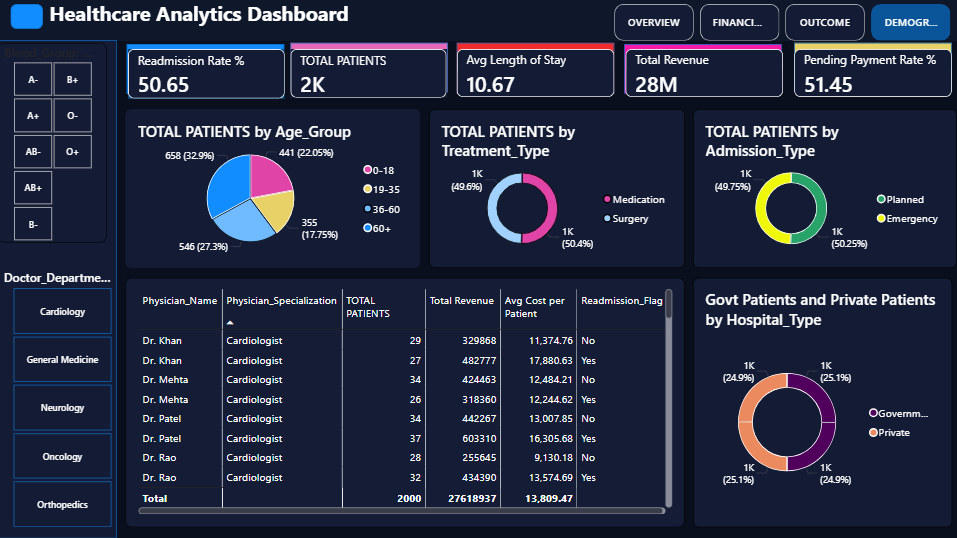

Layout of this report page (visuals, bound fields, positions):
{"tool":"powerbi","page":{"name":"DEMOGRAPHS","canvas":[1280,720],"ordinal":3},"visuals":[{"type":"shape","box":[0,0,1280,56],"z":0},{"type":"textbox","box":[16,0,1248,56],"z":1000},{"type":"shape","box":[171.1,60,210,66.7],"z":2000},{"type":"cardVisual","fields":{"Data":["HealthcareData.Readmission Rate %"]},"box":[173.1,66.4,209.2,66.4],"z":3000},{"type":"shape","box":[390,58,210,66],"z":4000},{"type":"shape","box":[0,55.7,158.6,664.3],"z":5000},{"type":"slicer","fields":{"Values":["HealthcareData.Blood_Group"]},"box":[0,59.1,144.8,266.6],"z":6000},{"type":"slicer","fields":{"Values":["HealthcareData.Doctor_Department"]},"box":[0,360,170,346],"z":7000},{"type":"shape","box":[612,58,210,68],"z":8000},{"type":"cardVisual","fields":{"Data":["HealthcareData.Avg Length of Stay"]},"box":[612,66,210,64],"z":9000},{"type":"shape","box":[835,60,210,66],"z":10000},{"type":"shape","box":[1061.4,59,210,65.7],"z":11000},{"type":"cardVisual","fields":{"Data":["HealthcareData.Total Revenue"]},"box":[836,66,210,64],"z":12000},{"type":"cardVisual","fields":{"Data":["HealthcareData.Pending Payment Rate %"]},"box":[1062,66,210,64],"z":13000},{"type":"cardVisual","fields":{"Data":["HealthcareData.TOTAL PATIENTS"]},"box":[390,66,208.8,65],"z":14000},{"type":"shape","box":[16.7,6.7,43.3,33.3],"z":15000},{"type":"textbox","box":[685.3,23.1,49.1,31.7],"z":16000},{"type":"pieChart","fields":{"Category":["HealthcareData.Age_Group"],"Y":["HealthcareData.TOTAL PATIENTS"]},"box":[169.5,147.3,392.8,212.2],"z":25000},{"type":"donutChart","fields":{"Category":["HealthcareData.Treatment_Type"],"Y":["HealthcareData.TOTAL PATIENTS"]},"box":[574.9,147.3,340.5,212.2],"z":26000},{"type":"donutChart","fields":{"Category":["HealthcareData.Admission_Type"],"Y":["HealthcareData.TOTAL PATIENTS"]},"box":[926.5,147.3,353.2,212.2],"z":27000},{"type":"tableEx","fields":{"Values":["HealthcareData.Physician_Name","HealthcareData.Physician_Specialization","HealthcareData.TOTAL PATIENTS","HealthcareData.Total Revenue","HealthcareData.Avg Cost per Patient","HealthcareData.Readmission_Flag"]},"box":[169.5,372.2,746,332.6],"z":28000},{"type":"donutChart","fields":{"Category":["HealthcareData.Hospital_Type"],"Y":["HealthcareData.Govt Patients","HealthcareData.Private Patients"]},"box":[926.5,372.2,345.3,332.6],"z":29000},{"type":"pageNavigator","box":[821.6,6,451.2,49.5],"z":29001}]}

Visuals, with their boxes in screenshot pixels (x1, y1, x2, y2), scaled from the page's 1280x720 canvas onto the 957x538 screenshot:
shape: region(0, 0, 956, 42)
textbox: region(12, 0, 945, 42)
shape: region(128, 45, 285, 95)
cardVisual - HealthcareData.Readmission Rate %: region(129, 50, 286, 99)
shape: region(292, 43, 449, 93)
shape: region(0, 42, 119, 537)
slicer - HealthcareData.Blood_Group: region(0, 44, 108, 243)
slicer - HealthcareData.Doctor_Department: region(0, 269, 127, 528)
shape: region(458, 43, 615, 94)
cardVisual - HealthcareData.Avg Length of Stay: region(458, 49, 615, 97)
shape: region(624, 45, 781, 94)
shape: region(794, 44, 951, 93)
cardVisual - HealthcareData.Total Revenue: region(625, 49, 782, 97)
cardVisual - HealthcareData.Pending Payment Rate %: region(794, 49, 951, 97)
cardVisual - HealthcareData.TOTAL PATIENTS: region(292, 49, 448, 98)
shape: region(12, 5, 45, 30)
textbox: region(512, 17, 549, 41)
pieChart - HealthcareData.Age_Group x HealthcareData.TOTAL PATIENTS: region(127, 110, 420, 269)
donutChart - HealthcareData.Treatment_Type x HealthcareData.TOTAL PATIENTS: region(430, 110, 684, 269)
donutChart - HealthcareData.Admission_Type x HealthcareData.TOTAL PATIENTS: region(693, 110, 956, 269)
tableEx - HealthcareData.Physician_Name x HealthcareData.Physician_Specialization: region(127, 278, 684, 527)
donutChart - HealthcareData.Hospital_Type x HealthcareData.Govt Patients: region(693, 278, 951, 527)
pageNavigator: region(614, 4, 952, 41)
